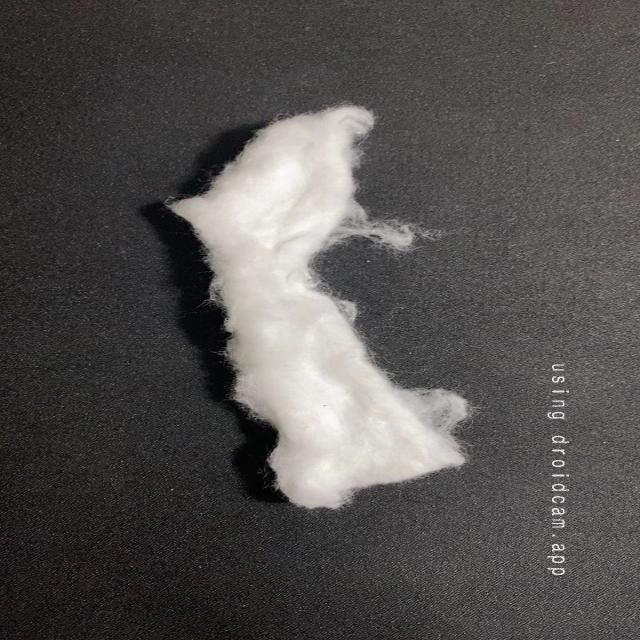cotton: (146, 96, 482, 518)
